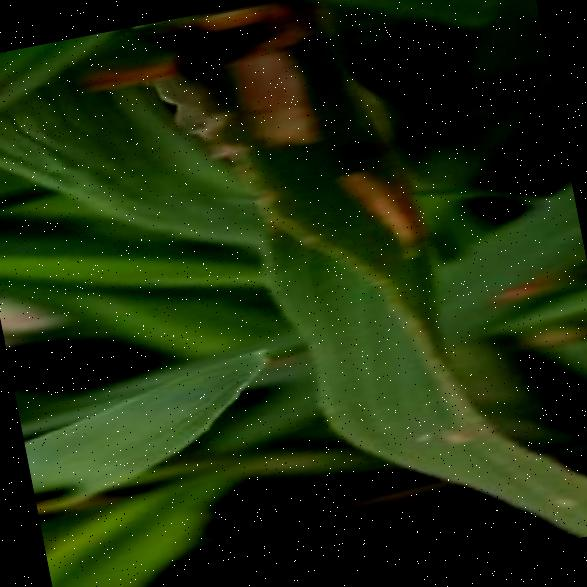Leaf_smut: (205, 20, 351, 172), (320, 140, 440, 282)
